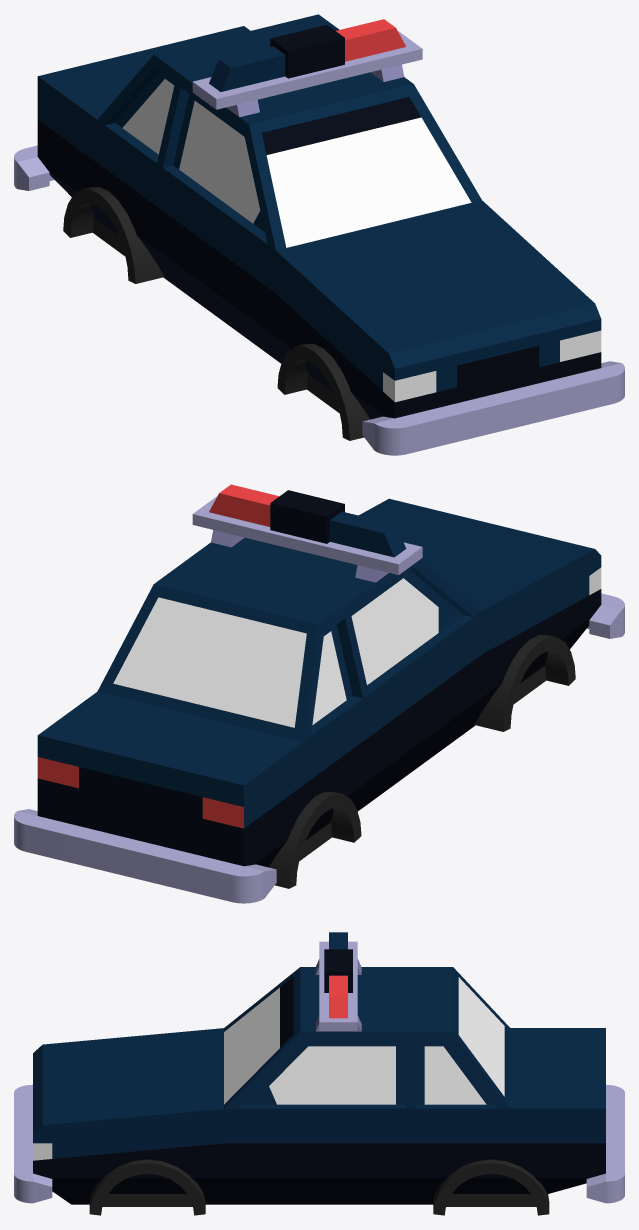
The model's file is police_car.glb.
3 views of the same model, one above another, from view 1: azimuth 30°, elevation 25°; view 2: azimuth 150°, elevation 25°; view 3: azimuth 270°, elevation 25° (orthographic). The views are drawn at different scales.
Visible parts, largest first — view 1: mergedBlocks(Clone); view 2: mergedBlocks(Clone); view 3: mergedBlocks(Clone).
Boxes of the visible parts, x1,y1,x2,y2 form: mergedBlocks(Clone): [14, 14, 624, 455]; mergedBlocks(Clone): [14, 484, 624, 903]; mergedBlocks(Clone): [14, 932, 624, 1215].
Size of the model in its own units: 1.2 by 1.23 by 3.2.
